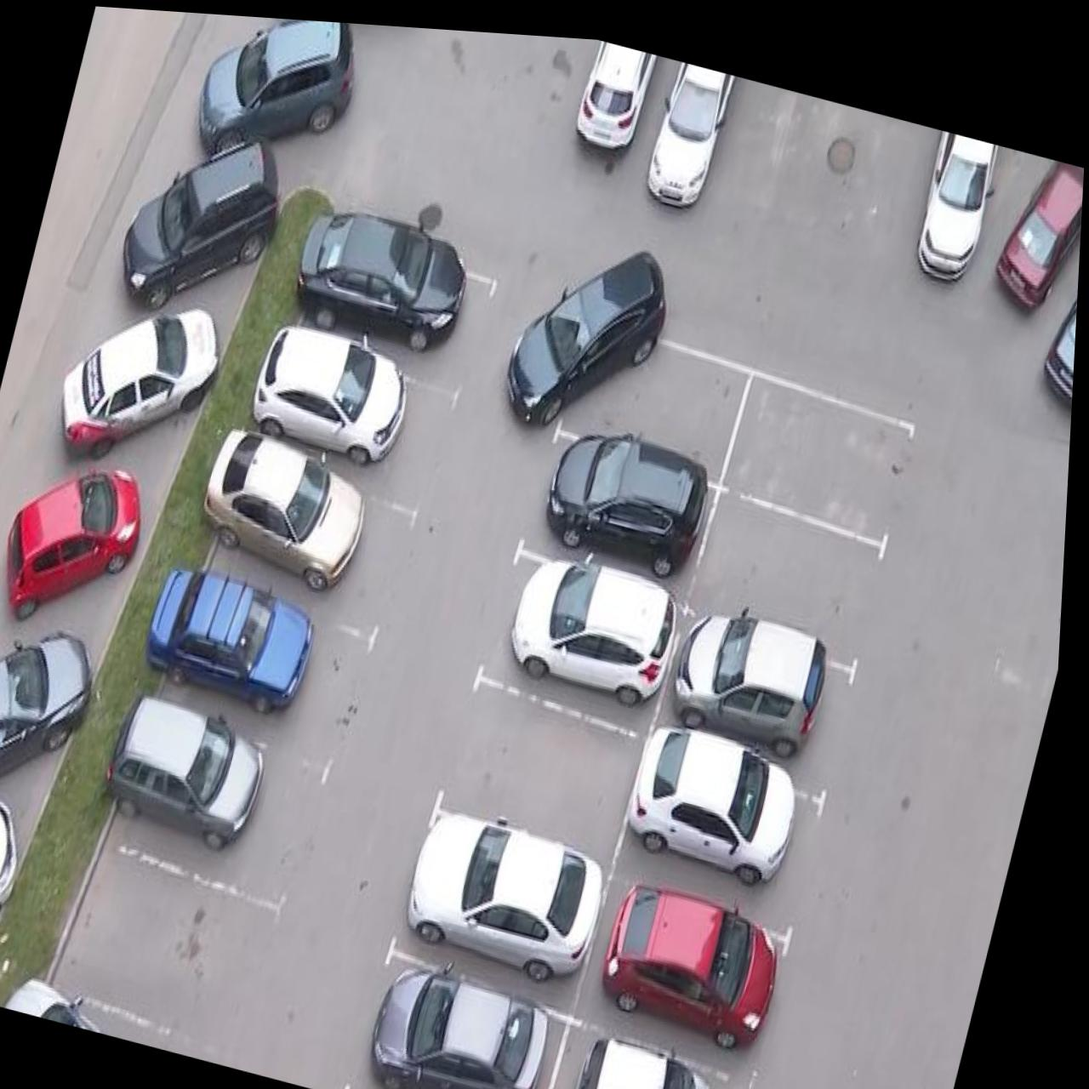cars: (144, 561, 380, 784), (198, 437, 427, 650), (571, 869, 800, 1065), (100, 700, 320, 903), (242, 321, 464, 520), (469, 542, 682, 739), (383, 826, 609, 1007), (607, 736, 830, 914), (302, 209, 505, 378), (652, 607, 865, 768), (519, 425, 723, 590), (550, 319, 760, 475), (350, 965, 573, 1089), (535, 1026, 738, 1089)
empty: (45, 836, 280, 1059), (421, 671, 649, 865), (684, 494, 884, 659), (720, 375, 922, 535)
